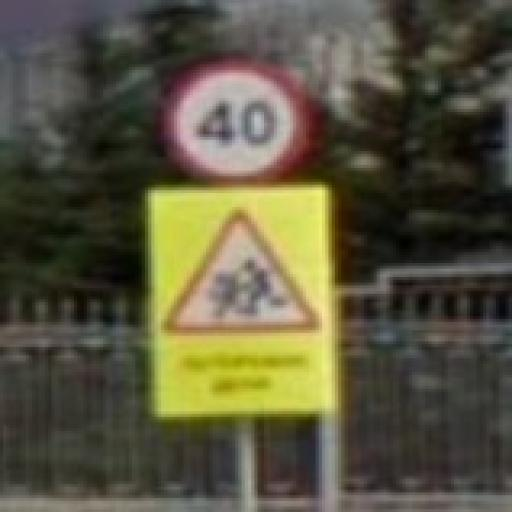traffic_sign: (159, 208, 326, 337), (165, 60, 310, 188)
